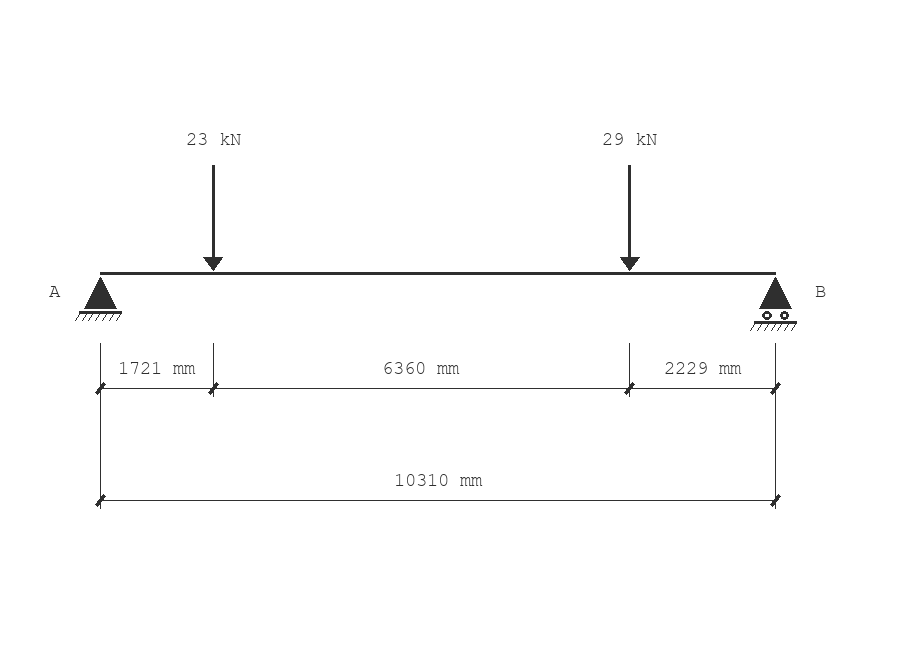pin_support: (75, 277, 122, 321)
point_load: (203, 165, 223, 271), (620, 165, 640, 271)
roller_support: (750, 277, 797, 331)
